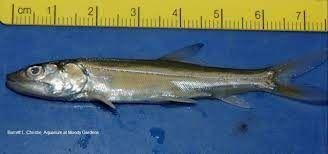Tenpounder: (4, 40, 328, 117)
